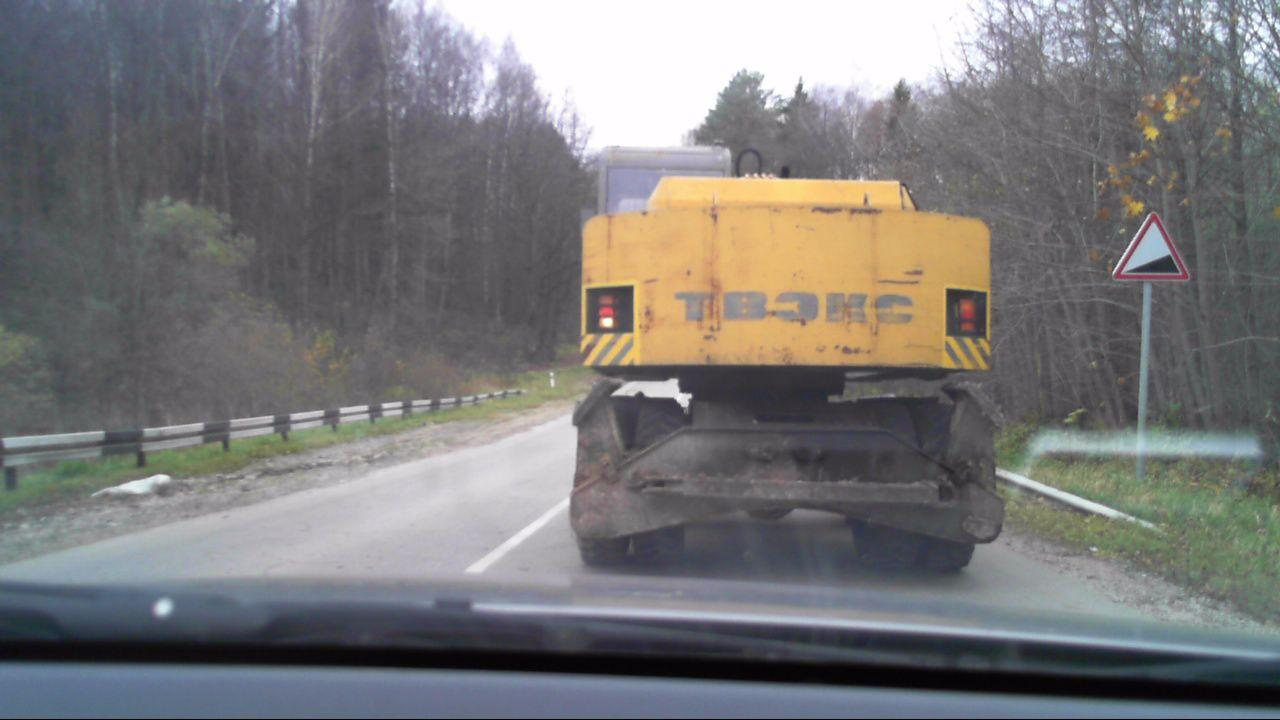1_14: (1111, 208, 1197, 284)
